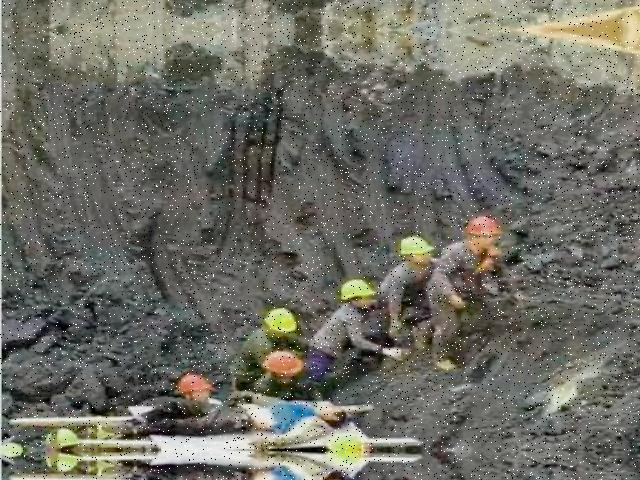Helmet: (332, 275, 379, 309), (258, 346, 306, 378), (260, 301, 298, 337), (460, 210, 502, 240), (391, 233, 436, 258), (170, 371, 215, 395)
